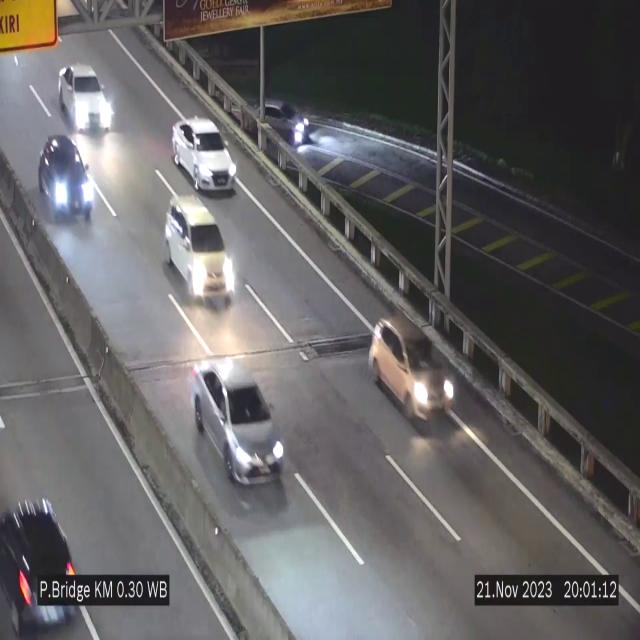Car: (193, 358, 285, 483), (367, 310, 455, 431), (165, 197, 235, 303), (40, 132, 102, 223), (172, 118, 236, 191), (58, 64, 114, 132)
